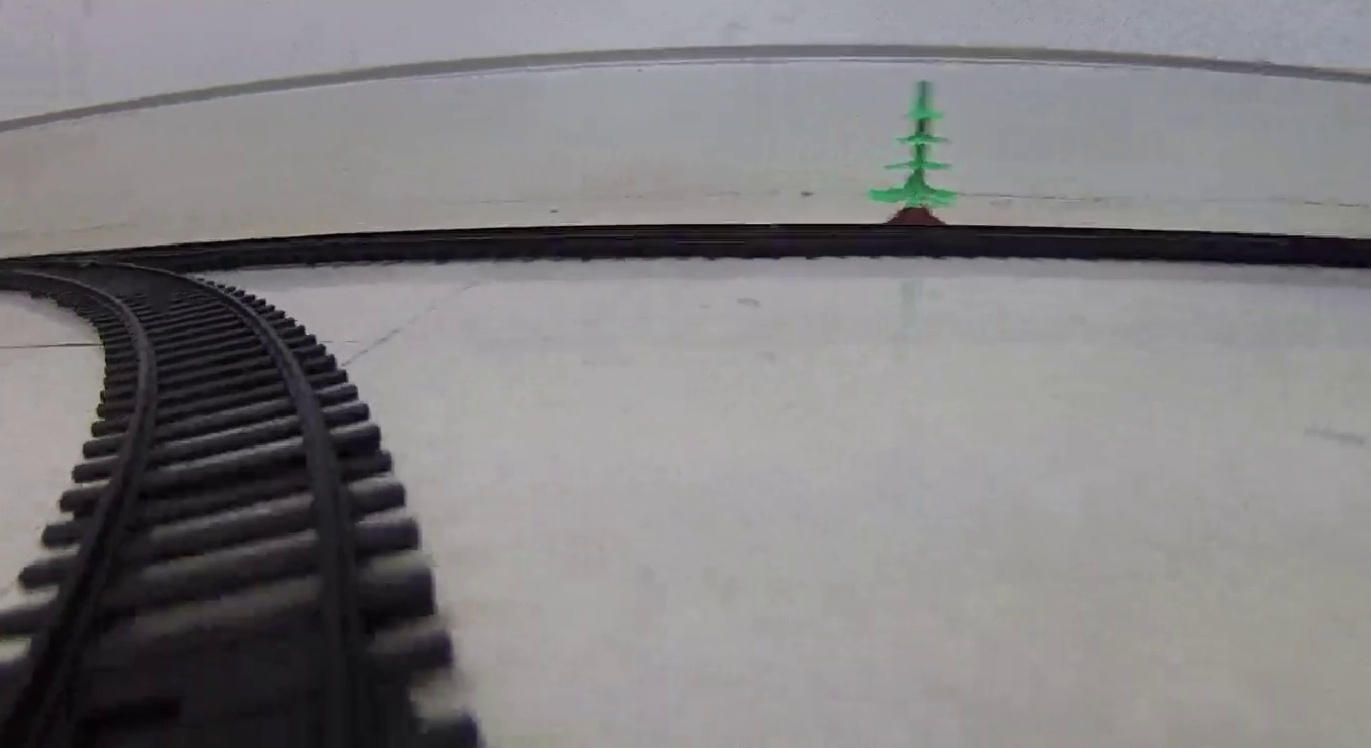tree: (869, 77, 963, 225)
